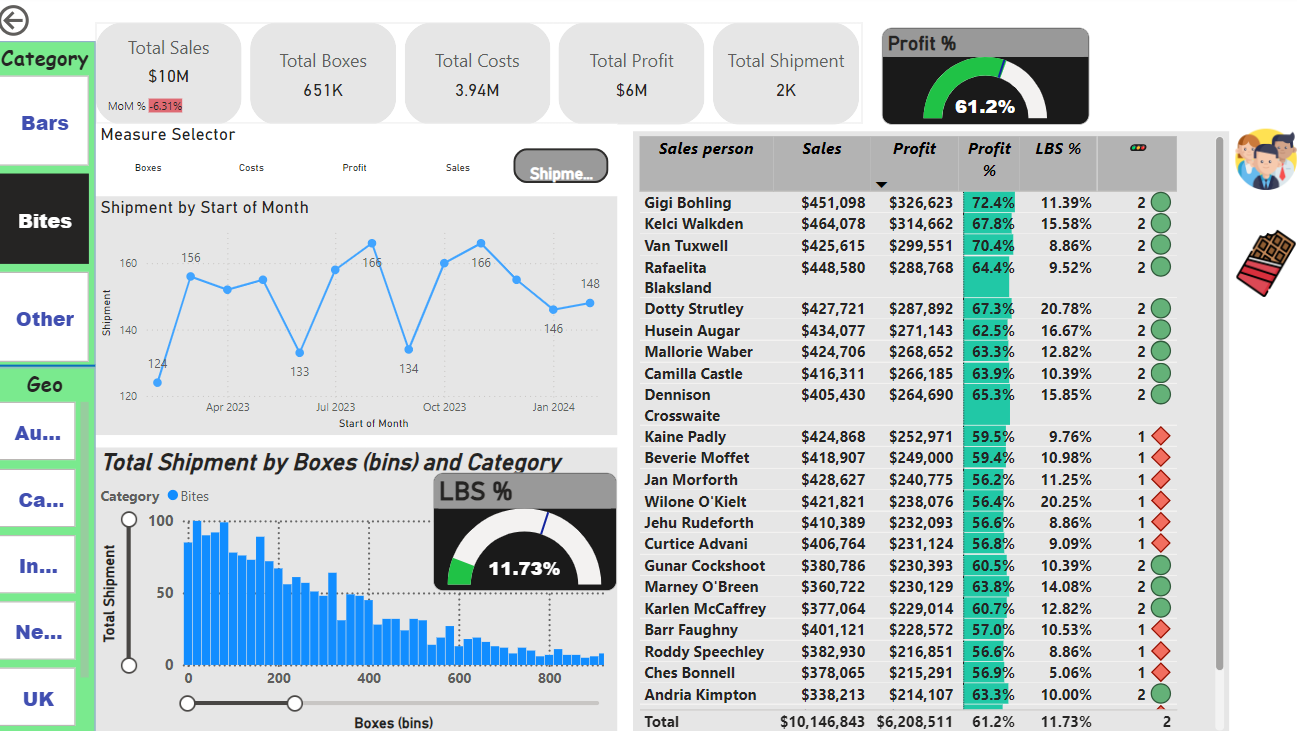

The page's visual inventory and layout, read from the dashboard file:
{"tool":"powerbi","page":{"name":"Page 1","canvas":[1280,720],"ordinal":0},"visuals":[{"type":"textbox","box":[1073,0,207,150],"z":0},{"type":"textbox","box":[1073,220,207,150],"z":1000},{"type":"cardVisual","fields":{"Data":["_Measure (2).Total Sales","_Measure (2).Total Boxes","_Measure (2).Total Costs","_Measure (2).Total Profit","_Measure (2).Total Shipment"]},"box":[100,21.7,750,100],"z":2000},{"type":"actionButton","box":[0,0,100,40],"z":3000},{"type":"gauge","fields":{"Y":["_Measure (2).Profit %"]},"box":[870,26.7,203.3,95],"z":4000},{"type":"lineChart","fields":{"Y":["_Measure (2).Total Shipment"],"Category":["calendar.Start of Month"]},"box":[100,191.7,510,233.3],"z":5000},{"type":"advancedSlicerVisual","fields":{"Values":["Measure Selector.Measure Selector"]},"box":[100,121.7,510,63.3],"z":6000},{"type":"columnChart","fields":{"Y":["_Measure (2).Total Shipment"],"Category":["shipments.Boxes (bins)"],"Series":["products.Category"]},"box":[100,438.3,510,281.7],"z":7000},{"type":"gauge","fields":{"Y":["_Measure (2).LBS %"]},"box":[430.4,462.2,179.8,116.2],"z":8000},{"type":"qnaVisual","box":[944.5,370,150,150],"z":9000},{"type":"tableEx","title":"People table","fields":{"Values":["people.Sales person","_Measure (2).Total Sales","_Measure (2).Total Profit","_Measure (2).Profit %","_Measure (2).LBS %","_Measure (2).Profit Target Indicator"]},"box":[626.7,128.3,583.3,591.7],"z":10000},{"type":"image","title":"People icon","box":[1210,121.7,70,70],"z":12000},{"type":"image","title":"Product icon","box":[1210,220,70,75],"z":13000},{"type":"shape","box":[0,40,100,680],"z":14000},{"type":"advancedSlicerVisual","fields":{"Values":["products.Category"]},"box":[0,40,100,320],"z":15000},{"type":"advancedSlicerVisual","fields":{"Values":["locations.Geo"]},"box":[0,360,100,360],"z":16000},{"type":"shape","box":[0,346.7,100,23.3],"z":17000}]}

Visuals, with their boxes in screenshot pixels (x1, y1, x2, y2), scaled from the page's 1280x720 canvas onto the 1297x731 screenshot:
textbox: {"x1": 1087, "y1": 0, "x2": 1296, "y2": 152}
textbox: {"x1": 1087, "y1": 223, "x2": 1296, "y2": 376}
cardVisual - _Measure (2).Total Sales x _Measure (2).Total Boxes: {"x1": 101, "y1": 22, "x2": 861, "y2": 124}
actionButton: {"x1": 0, "y1": 0, "x2": 101, "y2": 41}
gauge - _Measure (2).Profit %: {"x1": 882, "y1": 27, "x2": 1088, "y2": 124}
lineChart - _Measure (2).Total Shipment x calendar.Start of Month: {"x1": 101, "y1": 195, "x2": 618, "y2": 431}
advancedSlicerVisual - Measure Selector.Measure Selector: {"x1": 101, "y1": 124, "x2": 618, "y2": 188}
columnChart - _Measure (2).Total Shipment x shipments.Boxes (bins): {"x1": 101, "y1": 445, "x2": 618, "y2": 730}
gauge - _Measure (2).LBS %: {"x1": 436, "y1": 469, "x2": 618, "y2": 587}
qnaVisual: {"x1": 957, "y1": 376, "x2": 1109, "y2": 528}
"People table" tableEx: {"x1": 635, "y1": 130, "x2": 1226, "y2": 730}
"People icon" image: {"x1": 1226, "y1": 124, "x2": 1296, "y2": 195}
"Product icon" image: {"x1": 1226, "y1": 223, "x2": 1296, "y2": 300}
shape: {"x1": 0, "y1": 41, "x2": 101, "y2": 730}
advancedSlicerVisual - products.Category: {"x1": 0, "y1": 41, "x2": 101, "y2": 366}
advancedSlicerVisual - locations.Geo: {"x1": 0, "y1": 366, "x2": 101, "y2": 730}
shape: {"x1": 0, "y1": 352, "x2": 101, "y2": 376}
